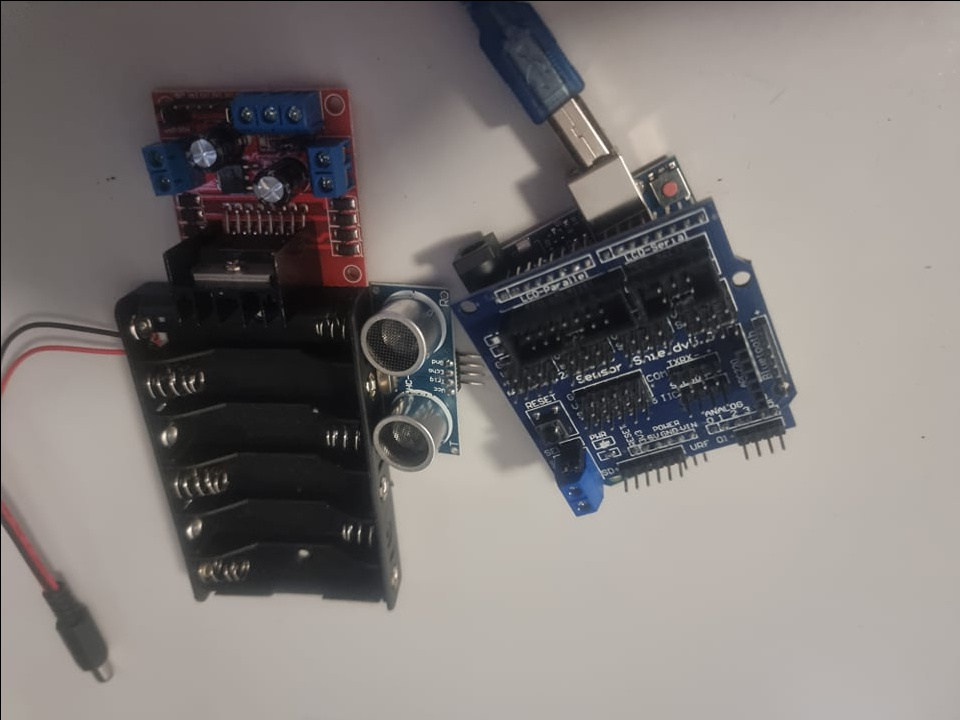5V EXPANSION: (453, 211, 794, 518)
BATTERY BOX: (113, 278, 402, 617)
MOTOR: (134, 84, 356, 328)
SENSOR: (362, 283, 458, 476)
UNO R3: (448, 132, 697, 257)
